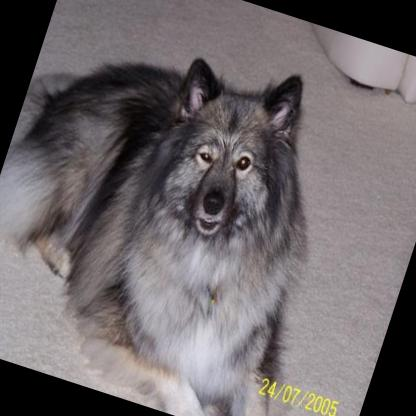keeshond: (0, 0, 378, 416)
